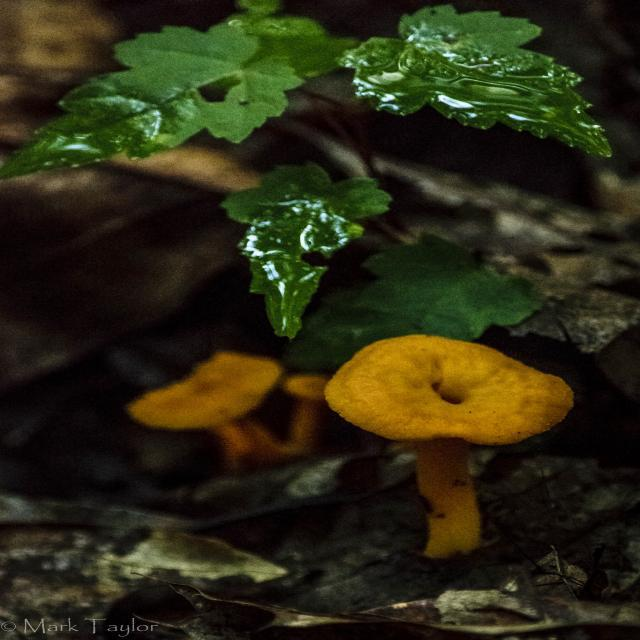Cantharellus cibarius: (329, 330, 556, 547), (139, 351, 315, 457)
